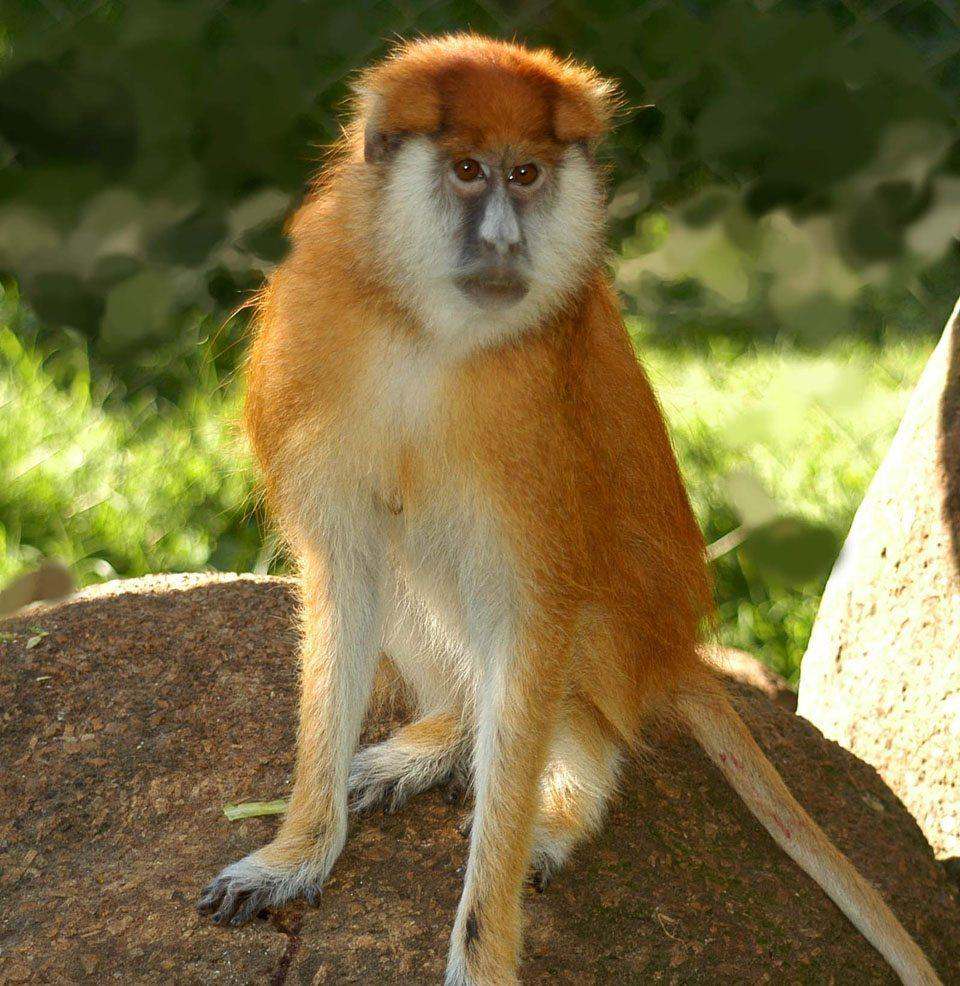monkey: (193, 33, 939, 986)
